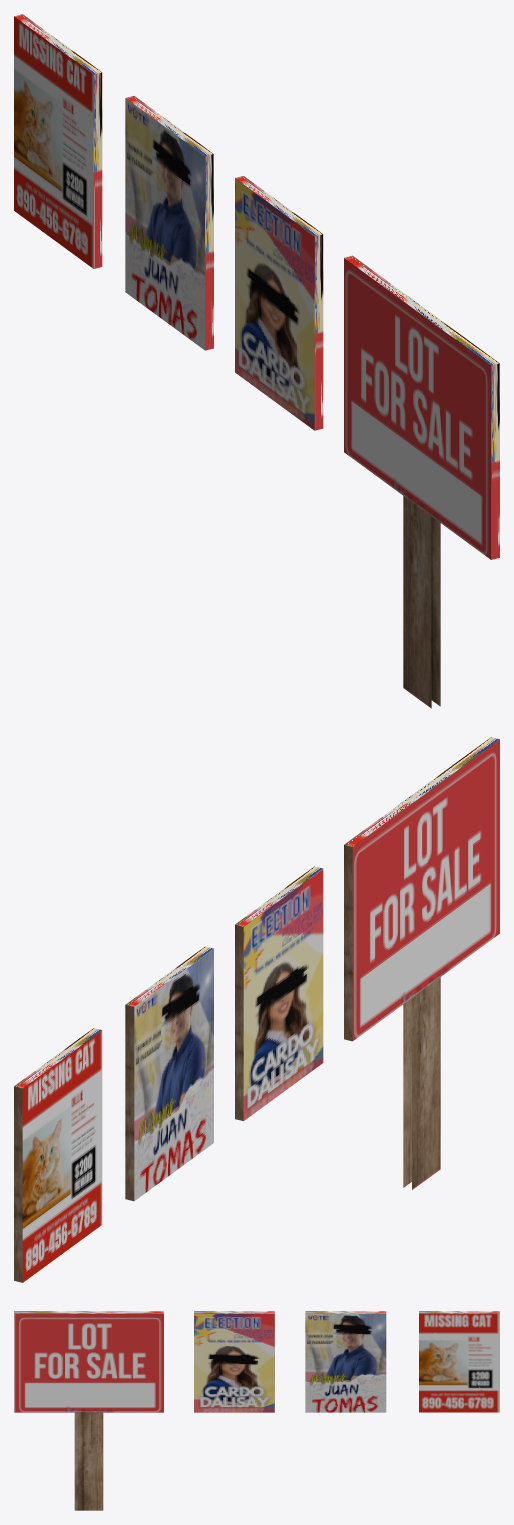
Rendered from Posters.fbx.
The picture shows the model from 3 angles, top to bottom: view 1: azimuth 30°, elevation 25°; view 2: azimuth 150°, elevation 25°; view 3: azimuth 270°, elevation 25°; orthographic projection. The views are drawn at different scales.
Visible parts, largest first — view 1: Cube.001, Cube, Cube.002, Cube.003; view 2: Cube.001, Cube.002, Cube, Cube.003; view 3: Cube.001, Cube.002, Cube, Cube.003.
Part boxes in pixels (left/top/right/bottom): Cube.001: left=344, top=255, right=499, bottom=708; Cube: left=235, top=176, right=323, bottom=430; Cube.002: left=125, top=96, right=213, bottom=350; Cube.003: left=14, top=14, right=102, bottom=268; Cube.001: left=344, top=737, right=499, bottom=1189; Cube.002: left=125, top=946, right=213, bottom=1201; Cube: left=235, top=866, right=323, bottom=1120; Cube.003: left=14, top=1028, right=102, bottom=1282; Cube.001: left=14, top=1311, right=163, bottom=1510; Cube.002: left=305, top=1311, right=386, bottom=1412; Cube: left=194, top=1311, right=274, bottom=1412; Cube.003: left=419, top=1311, right=499, bottom=1412.
Size of the model in its own units: 26.51 by 1111 by 2484.
1 material, 1 textured.
